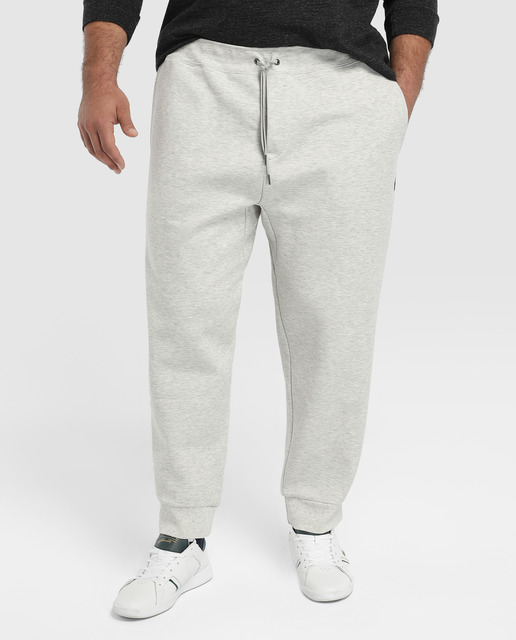feet: (89, 435, 370, 625)
